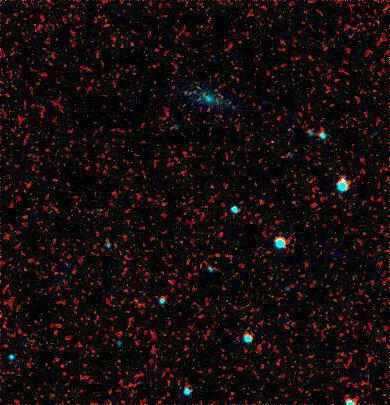star: (327, 158, 357, 188)
